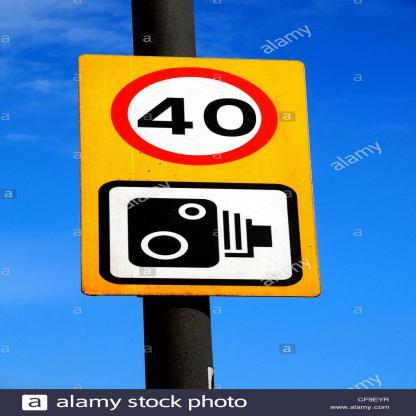Speed Limit 40: (110, 67, 280, 168)
